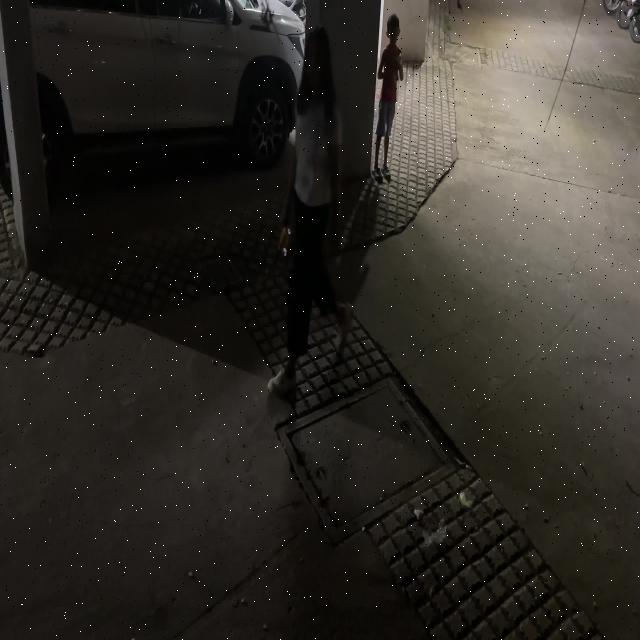human: (264, 16, 365, 407), (372, 8, 409, 184)
trash: (424, 522, 454, 549), (409, 501, 426, 520), (454, 492, 470, 509)
